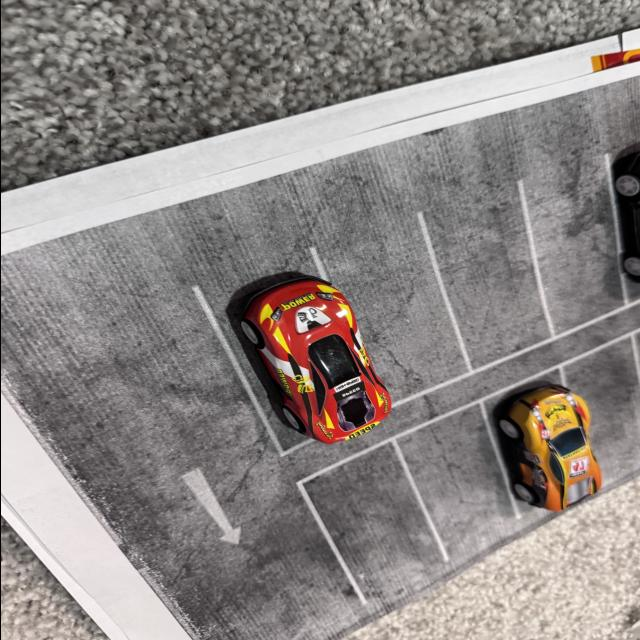Car: (182, 201, 430, 510), (476, 336, 604, 536)
